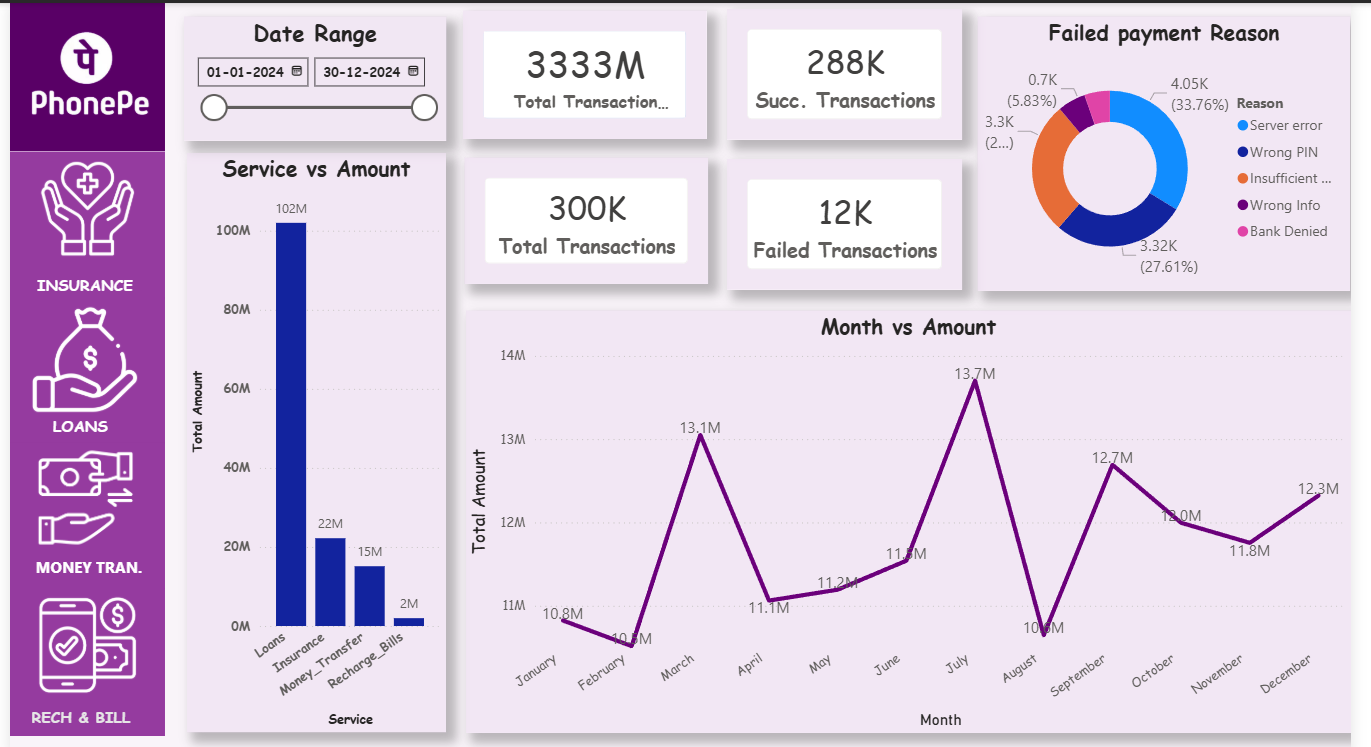

The dashboard page shown, as its layout file describes it:
{"tool":"powerbi","page":{"name":"Home","canvas":[1280,720],"ordinal":0},"visuals":[{"type":"shape","box":[0,0,148,141.5],"z":0,"group":"g1"},{"type":"slicer","title":"Date Range","fields":{"Values":["All_Transactions.Date"]},"box":[165.9,13,250.5,118.7],"z":0},{"type":"cardVisual","title":"Total Transaction Amount","fields":{"Data":["Sum(All_Transactions.Amount)"]},"box":[432.8,7.6,232.4,122.8],"z":1000},{"type":"shape","box":[0,141.5,148,141.5],"z":1000,"group":"g5"},{"type":"cardVisual","title":"Total Transaction Amount","fields":{"Data":["Count(All_Transactions.Transaction_ID)"]},"box":[684.1,5.7,224.9,124.7],"z":2000},{"type":"shape","box":[0,281.4,148,139.9],"z":2000,"group":"g9"},{"type":"cardVisual","title":"Total Transaction Amount","fields":{"Data":["Count(All_Transactions.Transaction_ID)"]},"box":[434.6,147.4,232.4,120.9],"z":3000},{"type":"shape","box":[0,419.6,148,139.9],"z":3000,"group":"g10"},{"type":"cardVisual","title":"Total Transaction Amount","fields":{"Data":["Count(All_Transactions.Transaction_ID)"]},"box":[684.1,149.3,224.9,124.7],"z":4000},{"type":"shape","box":[0,558.6,148,141.5],"z":4000,"group":"g11"},{"type":"donutChart","title":"Failed payment Reason","fields":{"Category":["All_Transactions.Reason"],"Y":["CountNonNull(All_Transactions.Reason)"]},"box":[923.9,13,356.2,261.9],"z":5000},{"type":"textbox","box":[11.4,253.7,120.4,30.9],"z":5000,"group":"g5"},{"type":"lineChart","title":"Month vs Amount","fields":{"Category":["All_Transactions.Date.Variation.Date Hierarchy.Month"],"Y":["Sum(All_Transactions.Amount)"]},"box":[435,293.3,845,403.3],"z":6000},{"type":"textbox","box":[6.5,388.8,120.4,30.9],"z":6000,"group":"g9"},{"type":"clusteredColumnChart","title":"Service vs Amount","fields":{"Y":["Sum(All_Transactions.Amount)"],"Category":["All_Transactions.Service"]},"box":[169.2,143.1,247.2,553],"z":7000},{"type":"textbox","box":[6.5,522.1,136.6,39],"z":7000,"group":"g10"},{"type":"group","id":"g1","title":"Group 1","box":[0,0,148,141.5],"z":8000},{"type":"textbox","box":[4.9,666,126.9,35.8],"z":8000,"group":"g11"},{"type":"group","id":"g2","title":"Group 3","box":[0,281.4,148,139.9],"z":9000},{"type":"image","box":[16.3,9.8,120.4,120.4],"z":10000,"group":"g1"},{"type":"group","id":"g3","title":"Group 4","box":[0,419.6,148,141.5],"z":10000},{"type":"image","box":[11.4,143.1,125.2,105.7],"z":11000,"group":"g5"},{"type":"group","id":"g4","title":"Group 5","box":[0,558.6,147.5,143.2],"z":11000},{"type":"group","id":"g5","title":"Group 8","box":[0,141.5,148,143.1],"z":12000},{"type":"image","box":[0,560.2,148,105.7],"z":12000,"group":"g11"},{"type":"group","id":"g6","title":"Group 2","box":[0,281.4,148,139.9],"z":12001,"group":"g2"},{"type":"group","id":"g7","title":"Group 6","box":[0,419.6,148,141.5],"z":12001,"group":"g3"},{"type":"group","id":"g8","title":"Group 7","box":[0,558.6,148,143.1],"z":12001,"group":"g4"},{"type":"group","id":"g9","title":"Group 9","box":[0,281.4,148,139.9],"z":12002,"group":"g6"},{"type":"group","id":"g10","title":"Group 10","box":[0,419.6,148,141.5],"z":12002,"group":"g7"},{"type":"group","id":"g11","title":"Group 11","box":[0,558.6,148,143.1],"z":12002,"group":"g8"},{"type":"actionButton","box":[0,136.6,148,141.5],"z":13000},{"type":"image","box":[16.3,422.9,112.2,99.2],"z":13000,"group":"g10"},{"type":"actionButton","box":[0,274.9,148,141.5],"z":14000},{"type":"image","box":[11.4,284.7,123.6,110.6],"z":14000,"group":"g9"},{"type":"actionButton","box":[0,416.4,148,141.5],"z":15000},{"type":"actionButton","box":[0,552.9,147.5,149],"z":16000},{"type":"actionButton","box":[0,0,148,141.5],"z":21006,"group":"g1"}]}

Visuals, with their boxes on the page's 1280x720 design canvas (x1, y1, x2, y2). These are canvas units, not pixel positions in the 1371x747 screenshot, which may show the page scaled, cropped or inside an application window:
shape: detection(0, 0, 148, 142)
"Date Range" slicer: detection(166, 13, 416, 132)
"Total Transaction Amount" cardVisual: detection(433, 8, 665, 130)
shape: detection(0, 142, 148, 283)
"Total Transaction Amount" cardVisual: detection(684, 6, 909, 130)
shape: detection(0, 281, 148, 421)
"Total Transaction Amount" cardVisual: detection(435, 147, 667, 268)
shape: detection(0, 420, 148, 560)
"Total Transaction Amount" cardVisual: detection(684, 149, 909, 274)
shape: detection(0, 559, 148, 700)
"Failed payment Reason" donutChart: detection(924, 13, 1280, 275)
textbox: detection(11, 254, 132, 285)
"Month vs Amount" lineChart: detection(435, 293, 1280, 697)
textbox: detection(6, 389, 127, 420)
"Service vs Amount" clusteredColumnChart: detection(169, 143, 416, 696)
textbox: detection(6, 522, 143, 561)
"Group 1" group: detection(0, 0, 148, 142)
textbox: detection(5, 666, 132, 702)
"Group 3" group: detection(0, 281, 148, 421)
image: detection(16, 10, 137, 130)
"Group 4" group: detection(0, 420, 148, 561)
image: detection(11, 143, 137, 249)
"Group 5" group: detection(0, 559, 148, 702)
"Group 8" group: detection(0, 142, 148, 285)
image: detection(0, 560, 148, 666)
"Group 2" group: detection(0, 281, 148, 421)
"Group 6" group: detection(0, 420, 148, 561)
"Group 7" group: detection(0, 559, 148, 702)
"Group 9" group: detection(0, 281, 148, 421)
"Group 10" group: detection(0, 420, 148, 561)
"Group 11" group: detection(0, 559, 148, 702)
actionButton: detection(0, 137, 148, 278)
image: detection(16, 423, 128, 522)
actionButton: detection(0, 275, 148, 416)
image: detection(11, 285, 135, 395)
actionButton: detection(0, 416, 148, 558)
actionButton: detection(0, 553, 148, 702)
actionButton: detection(0, 0, 148, 142)
